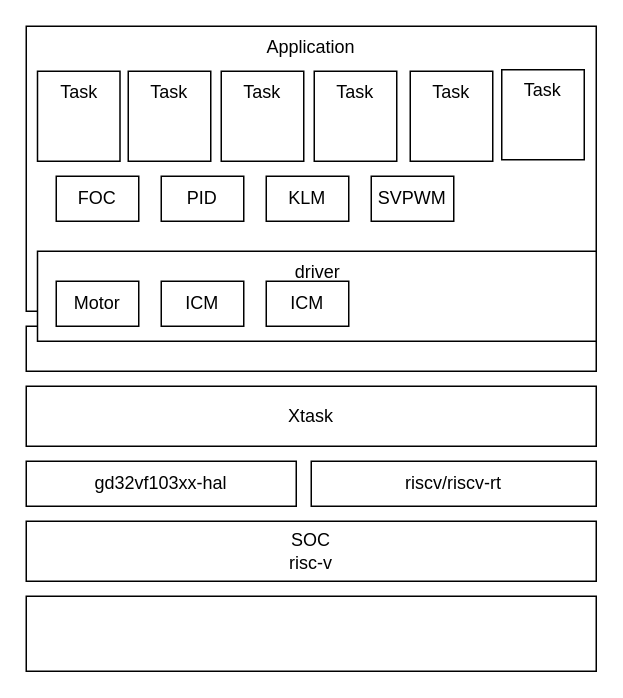
This 623x698 diagram has some shape labels left out. Here are the shapes that lost their labels. From the top down, the centre of each, then its label:
At [310,348]: "embedded-hal".
At [310,633]: "Peripherals".
